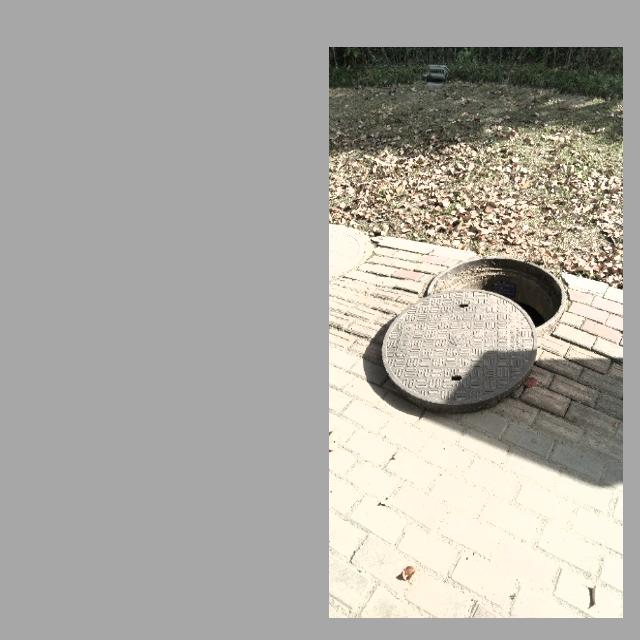uncovered: (376, 231, 579, 404)
